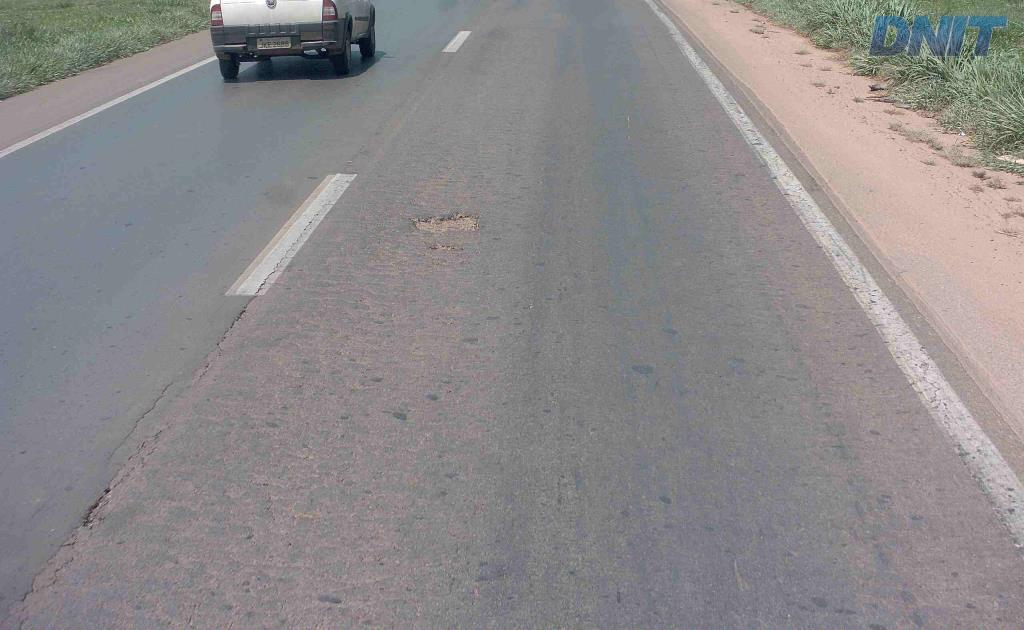pothole: (403, 209, 484, 236)
